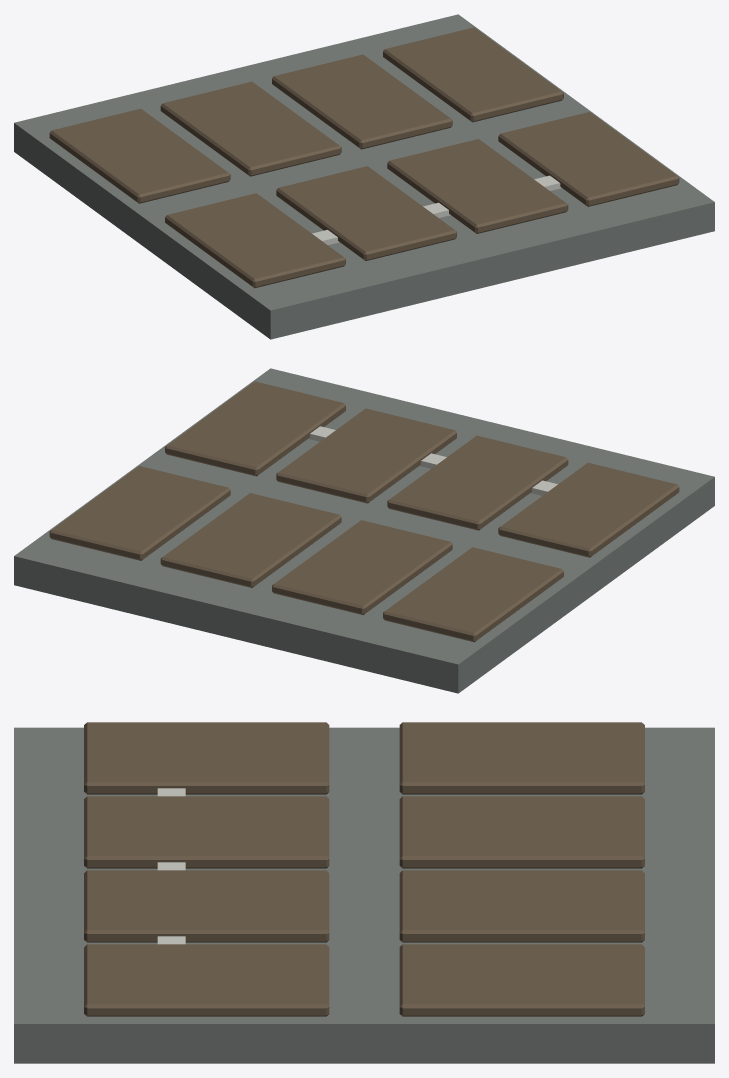
The model's file is terrain-cobble-end.lod0.glb.
3 views of the same model, one above another, from view 1: azimuth 30°, elevation 25°; view 2: azimuth 150°, elevation 25°; view 3: azimuth 270°, elevation 25° (orthographic). The views are drawn at different scales.
Parts seen in each view (by area): view 1: terrain-cobble-end__body; view 2: terrain-cobble-end__body; view 3: terrain-cobble-end__body.
Boxes of the visible parts, box(x1,y1,x2,y2) form: terrain-cobble-end__body: box(14, 14, 714, 339); terrain-cobble-end__body: box(14, 368, 714, 693); terrain-cobble-end__body: box(14, 722, 714, 1063).
Bounding box in the file's own units: 2 × 0.165 × 2.
